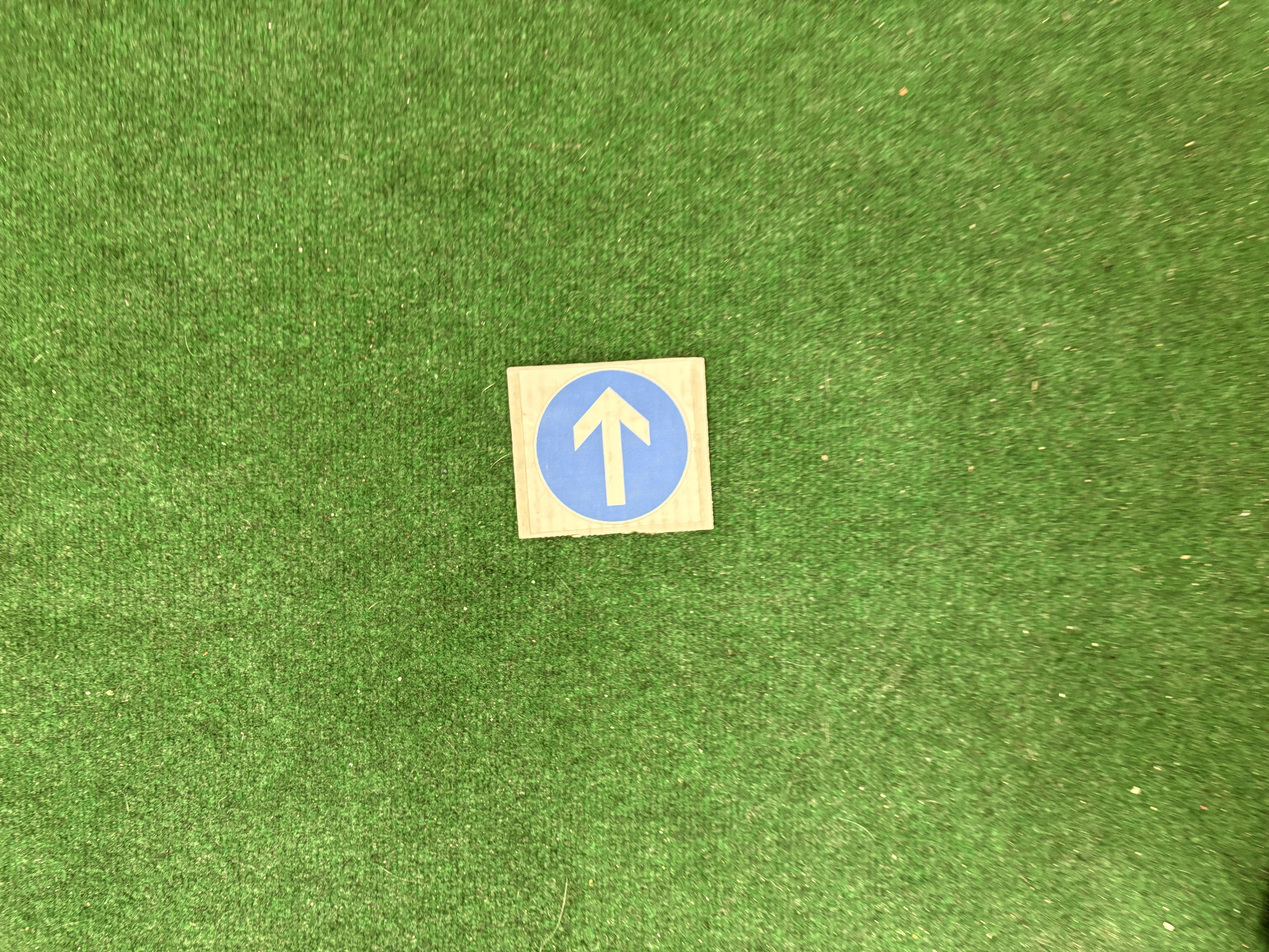Proceed Forward: (507, 364, 713, 539)
